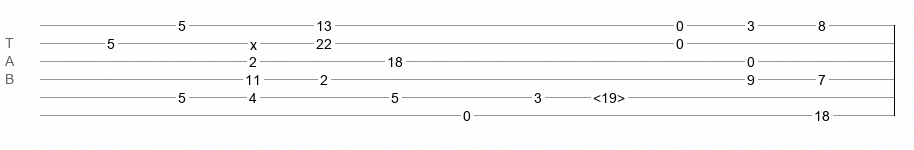0: (463, 108, 471, 118), (676, 36, 684, 46), (676, 18, 684, 28), (747, 54, 755, 64)
11: (245, 72, 261, 82)
13: (316, 18, 332, 28)
18: (387, 54, 403, 64), (814, 108, 830, 118)
2: (249, 54, 257, 64), (320, 72, 328, 82)
22: (316, 36, 332, 46)
3: (534, 90, 542, 100), (747, 18, 755, 28)
4: (249, 90, 257, 100)
5: (107, 36, 115, 46), (178, 90, 186, 100), (178, 18, 186, 28), (391, 90, 399, 100)
7: (818, 72, 826, 82)
8: (818, 18, 826, 28)
9: (747, 72, 755, 82)
harmonic: (593, 90, 625, 100)
x: (250, 37, 257, 45)
